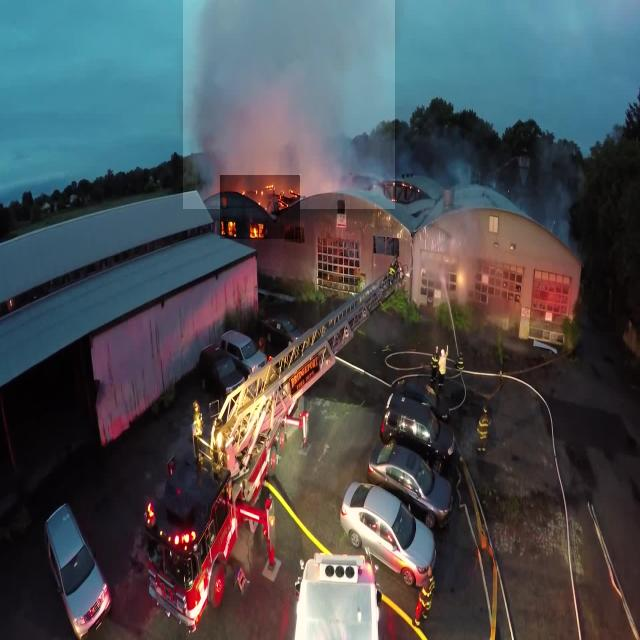Fire: (220, 175, 300, 239)
Smoke: (183, 0, 395, 209)
